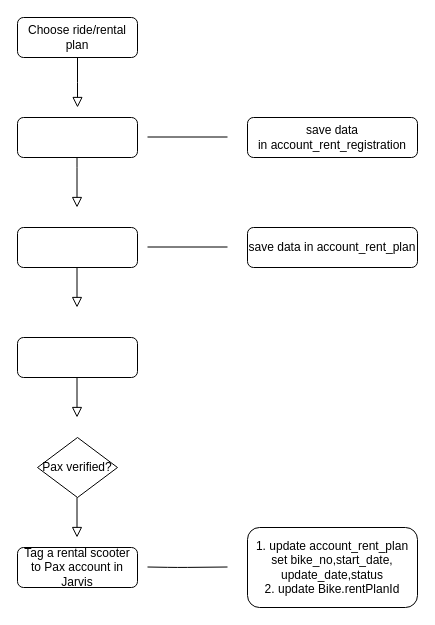
The diagram is 435 pixels wide and 625 high, and some of its shapes have lost their labels. Here are the shapes that lost their labels. From the top down, the box of each, then its label:
(16, 116, 138, 158): Fill in the native form
(16, 226, 138, 268): Purchase ride plan
(16, 336, 138, 378): Verify in Jarvis for new rental
